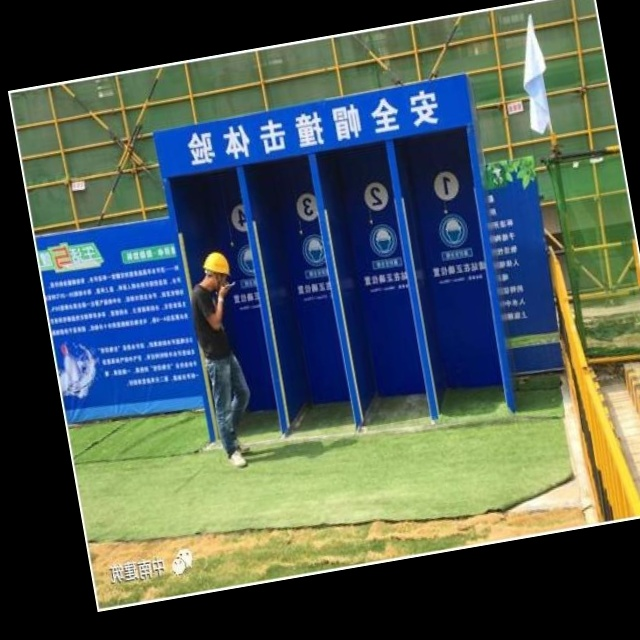Con_Casco: (203, 249, 233, 288)
